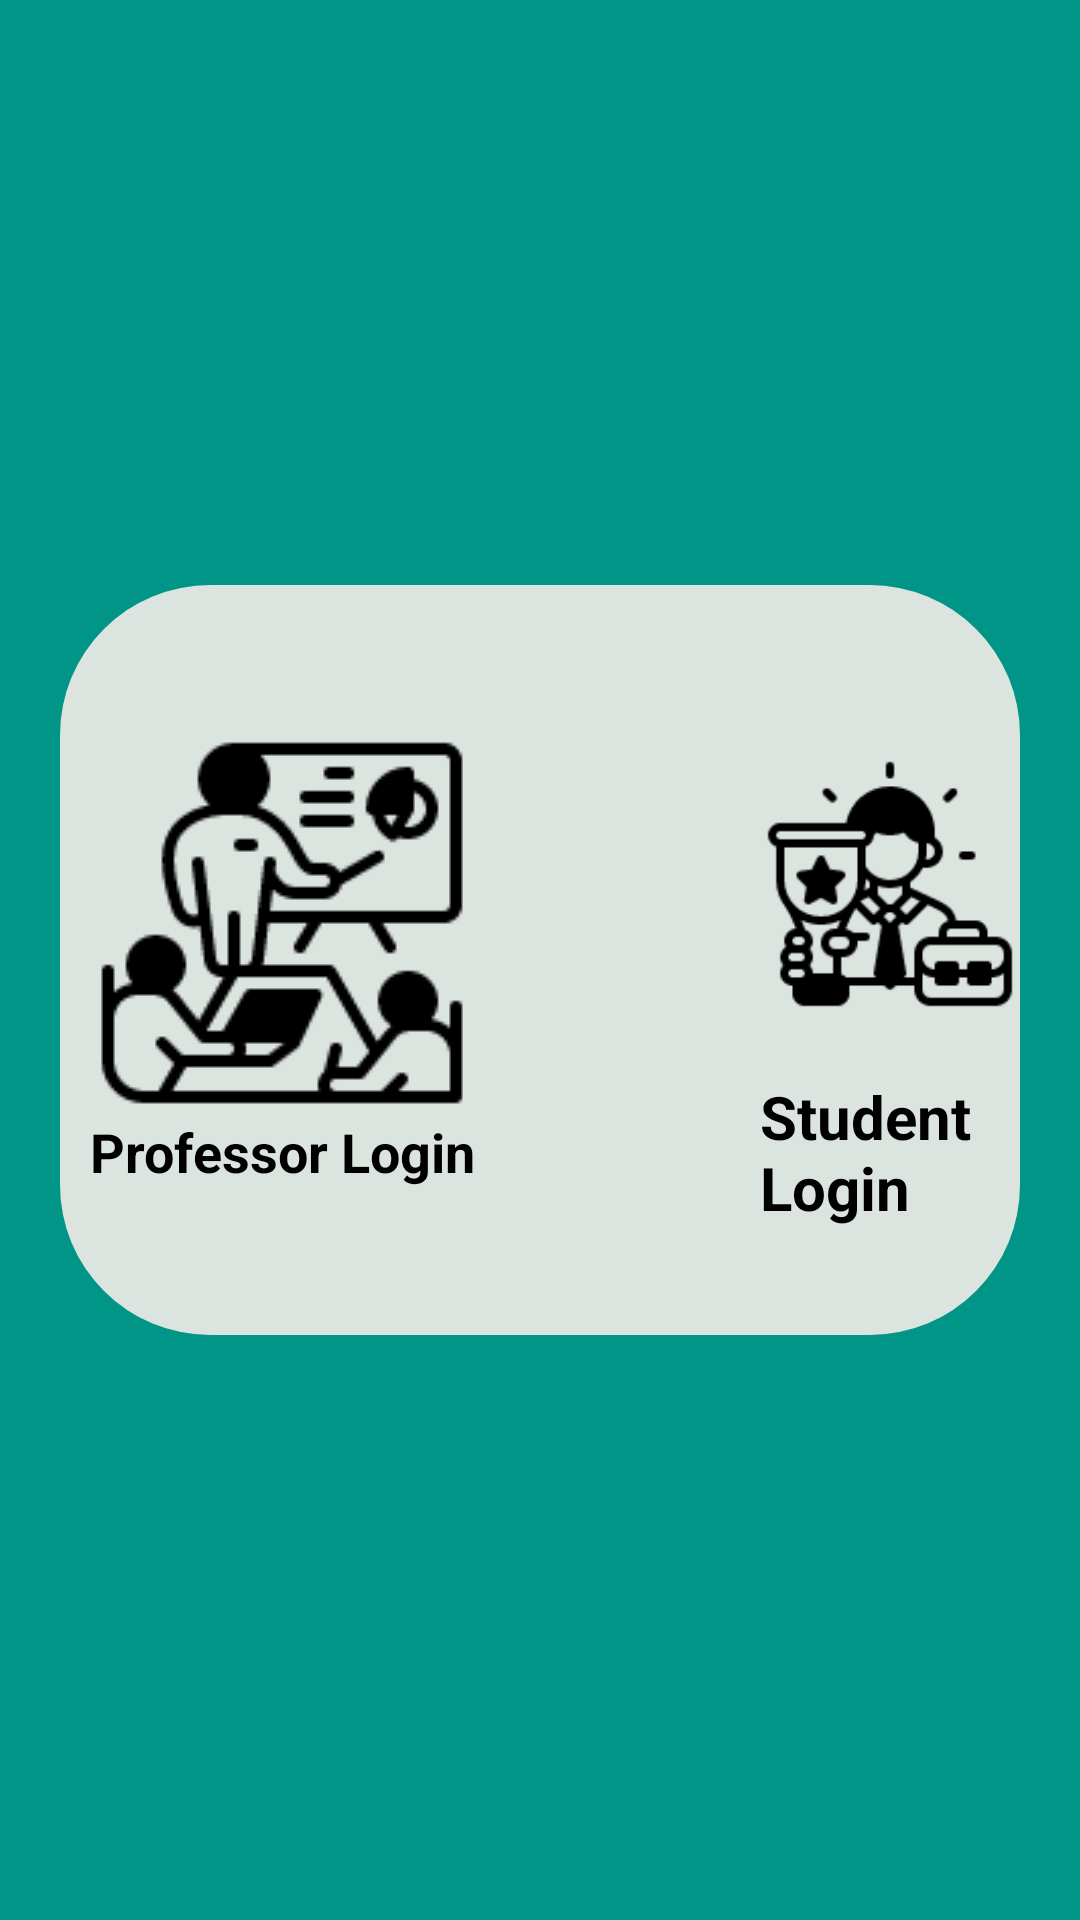

Named icons in this screenshot (1080*1920) and their bounding boxes, (x1, y1, x2, y2):
student roll: (767, 761, 1013, 1007)
